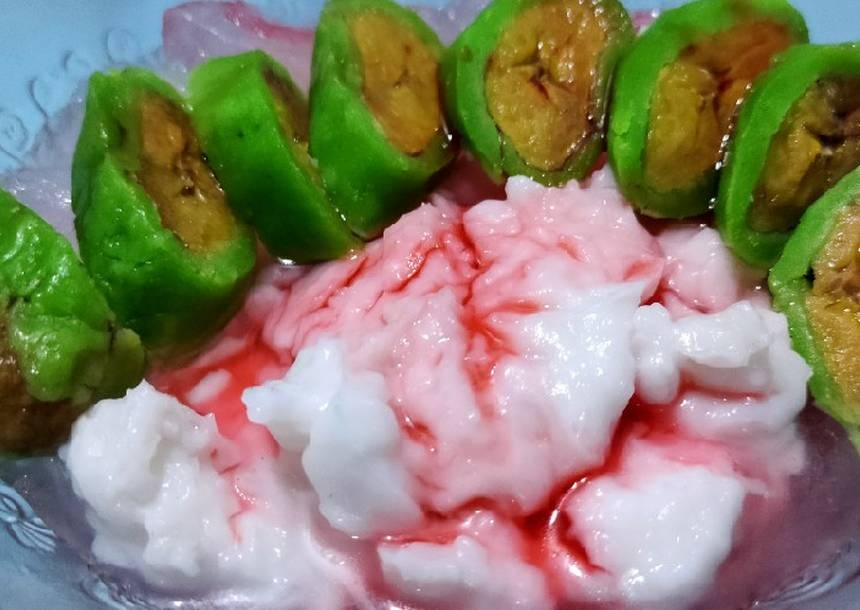pisang_ijo: (452, 2, 618, 193)
